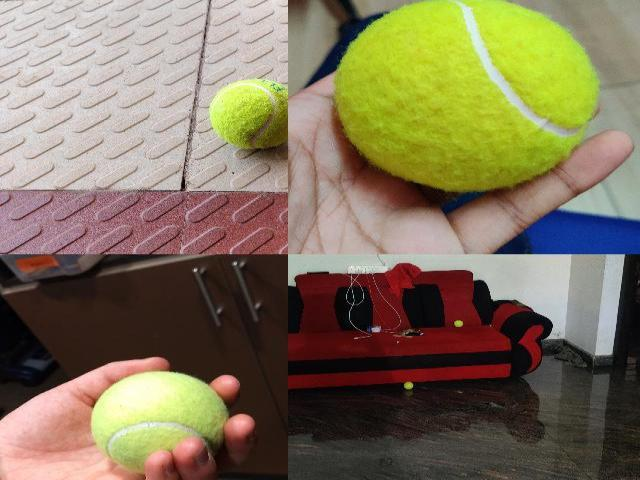tennis-ball: (334, 0, 596, 189), (90, 370, 228, 476), (208, 78, 287, 148), (453, 320, 463, 327), (403, 382, 413, 389)
